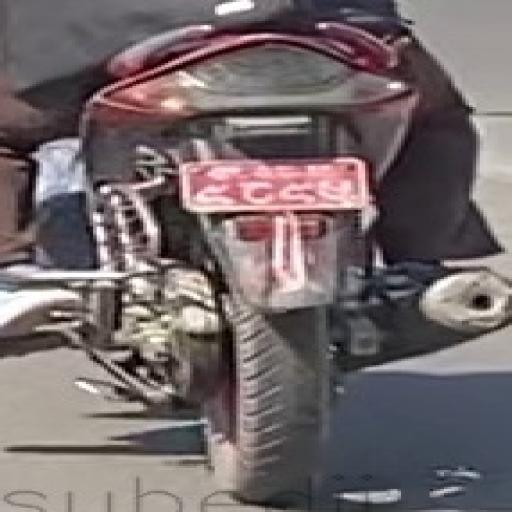license_plate: (167, 156, 379, 216)
